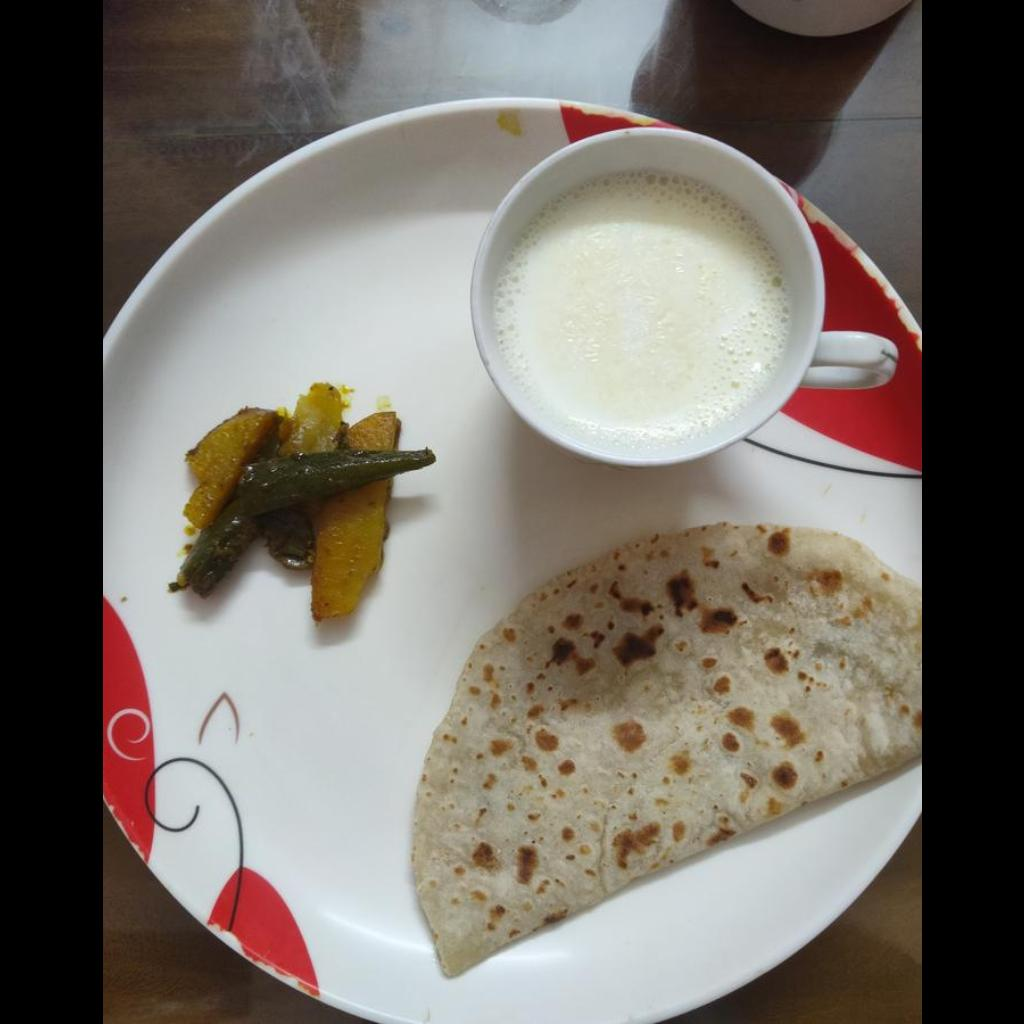milk: (497, 173, 786, 434)
ruti: (409, 516, 920, 978)
vegetable: (167, 383, 434, 622)
